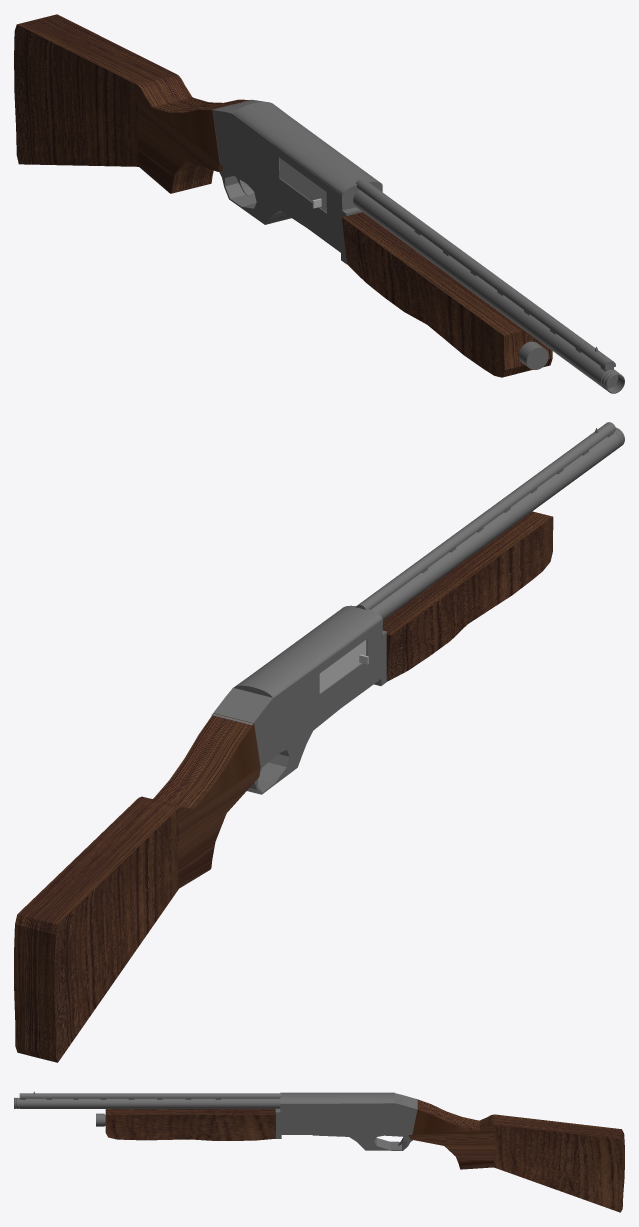
Rendered from MAG-10.fbx.
The picture shows the model from 3 angles, top to bottom: view 1: azimuth 30°, elevation 25°; view 2: azimuth 150°, elevation 25°; view 3: azimuth 270°, elevation 25°; orthographic projection. The views are drawn at different scales.
Parts seen in each view (by area): view 1: Stock, Hand Guard, Receiver, Barrel, Upper Receiver, Upper Barrel Guard, Trigger Guard, Bullet Ejector, Mag; view 2: Stock, Hand Guard, Receiver, Barrel, Upper Receiver, Upper Barrel Guard, Trigger Guard, Bullet Ejector; view 3: Stock, Hand Guard, Receiver, Barrel, Upper Barrel Guard, Upper Receiver, Trigger Guard.
Boxes of the visible parts, x1=… form: Stock: x1=14, y1=14, x2=249, y2=193; Hand Guard: x1=342, y1=212, x2=552, y2=377; Receiver: x1=211, y1=99, x2=382, y2=252; Barrel: x1=353, y1=190, x2=618, y2=388; Upper Receiver: x1=233, y1=101, x2=382, y2=195; Upper Barrel Guard: x1=356, y1=178, x2=615, y2=371; Trigger Guard: x1=219, y1=167, x2=304, y2=226; Bullet Ejector: x1=280, y1=158, x2=326, y2=212; Mag: x1=518, y1=341, x2=548, y2=369; Stock: x1=14, y1=713, x2=260, y2=1062; Hand Guard: x1=382, y1=511, x2=553, y2=681; Receiver: x1=211, y1=619, x2=382, y2=766; Barrel: x1=371, y1=434, x2=618, y2=620; Upper Receiver: x1=234, y1=605, x2=382, y2=697; Upper Barrel Guard: x1=355, y1=422, x2=615, y2=609; Trigger Guard: x1=247, y1=709, x2=339, y2=794; Bullet Ejector: x1=319, y1=640, x2=368, y2=693; Stock: x1=409, y1=1099, x2=624, y2=1212; Hand Guard: x1=105, y1=1109, x2=275, y2=1140; Receiver: x1=280, y1=1093, x2=417, y2=1134; Barrel: x1=21, y1=1098, x2=280, y2=1108; Upper Barrel Guard: x1=19, y1=1093, x2=281, y2=1099; Upper Receiver: x1=280, y1=1092, x2=394, y2=1104; Trigger Guard: x1=312, y1=1135, x2=412, y2=1150.
Size of the model in its own units: 62.85 by 15.38 by 299.
Materials: 3 (1 with a texture image).
